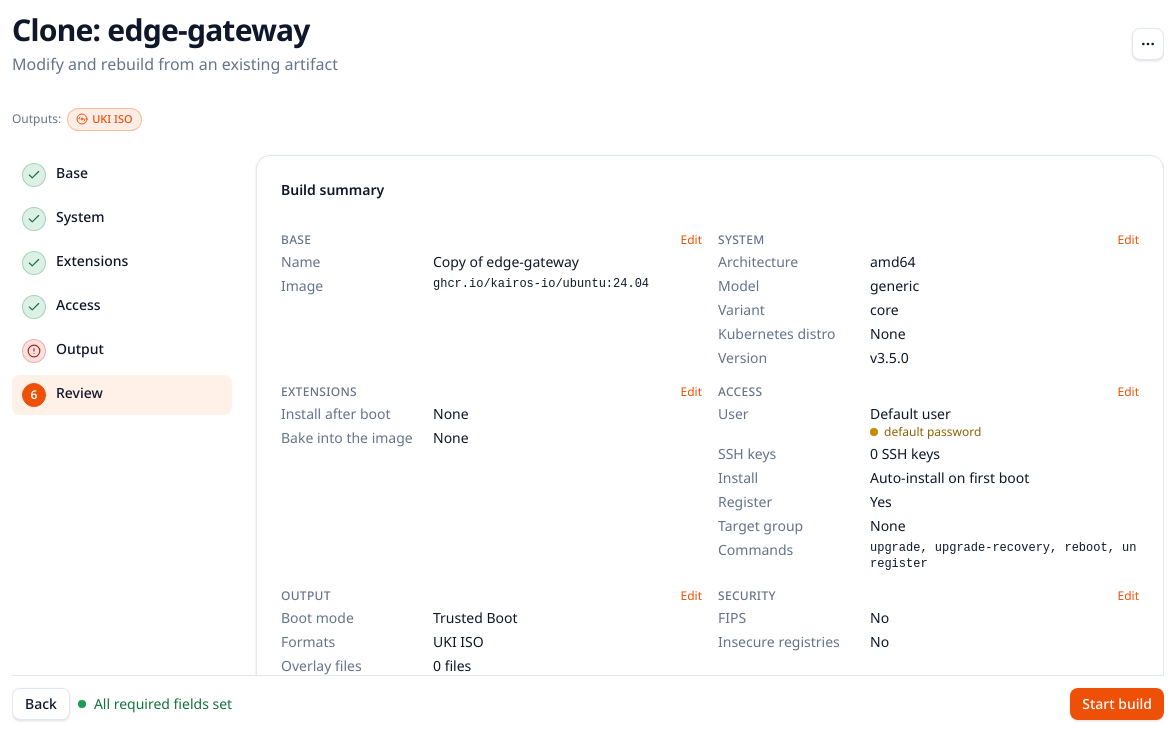
Scenario: ArtifactBuilder: UKI signing › refuses to start a UKI build without a saved key set
The image size is (1176, 732).
# A clone lands on Review, where Start Build checks every step.
Click the button "Start build".
click(1117, 704)  # box [1070,688,1164,720]
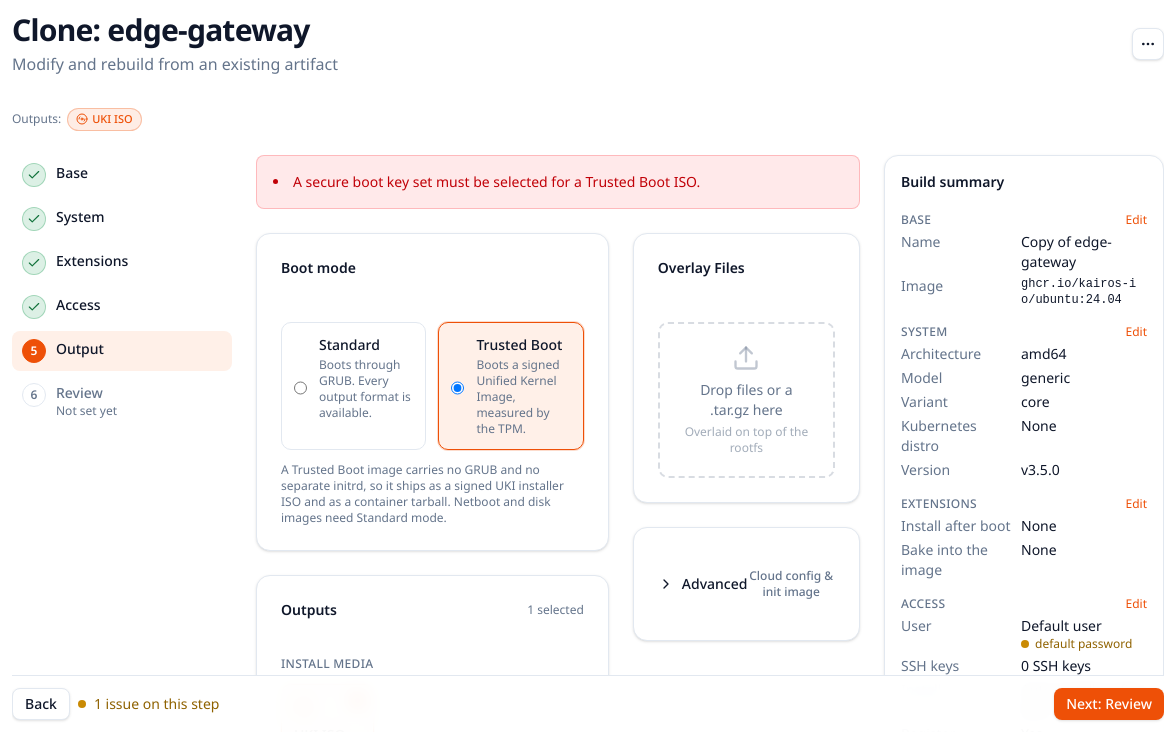
expect the list item "A secure boot key set must be selected for a Trusted Boot ISO" is shown: met, box [293,172,700,190]
